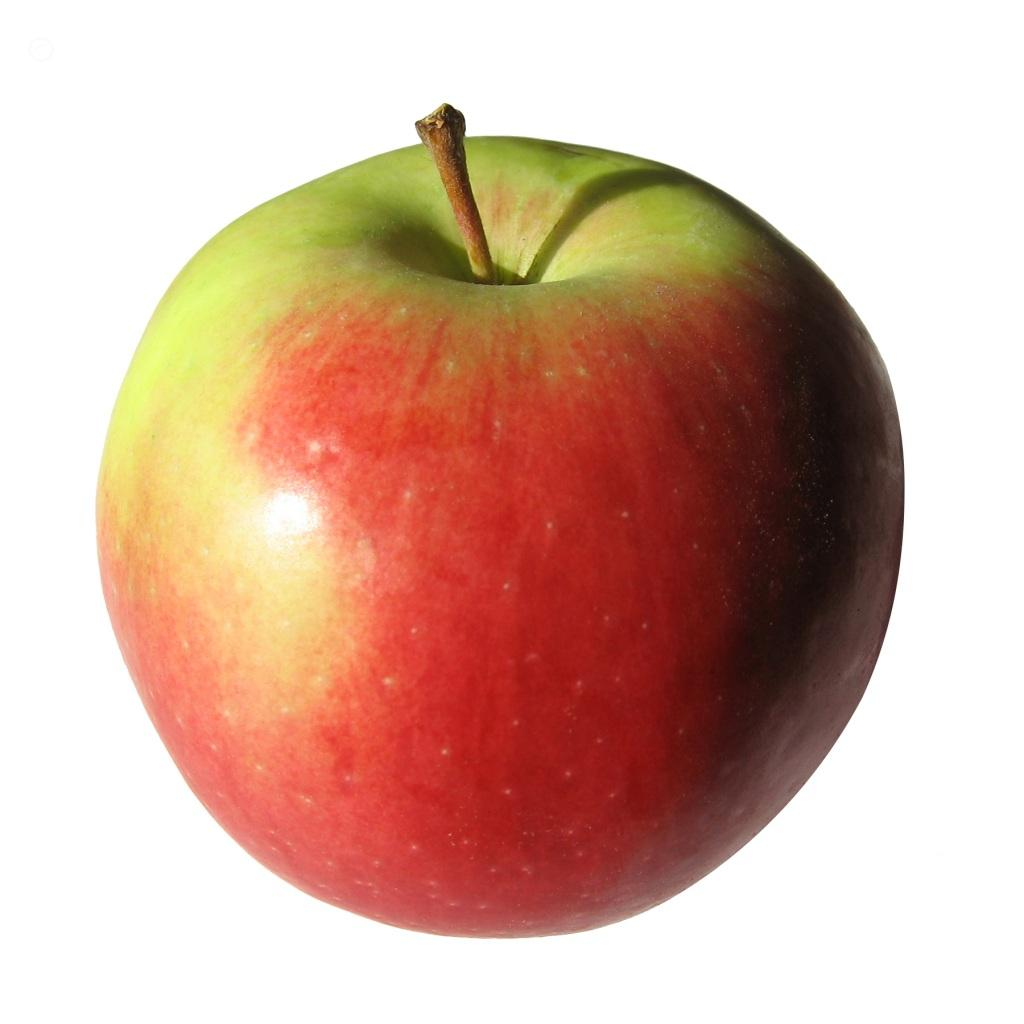apple: (90, 100, 908, 944)
